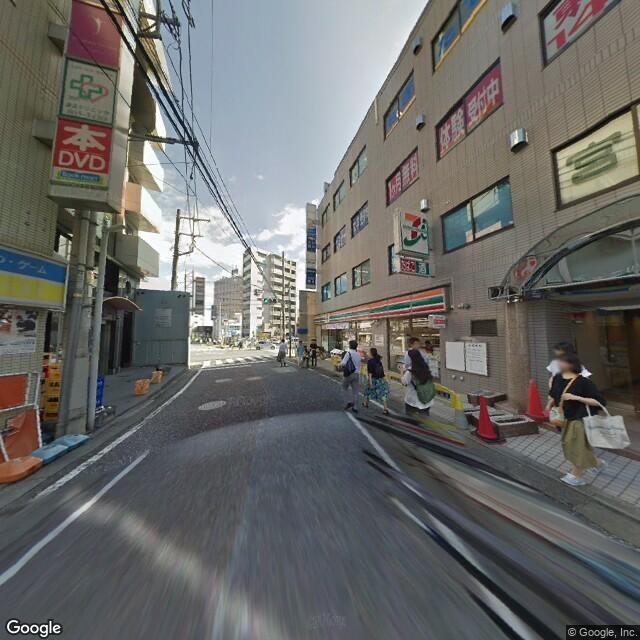7-eleven: (315, 283, 452, 332), (393, 207, 431, 258)
